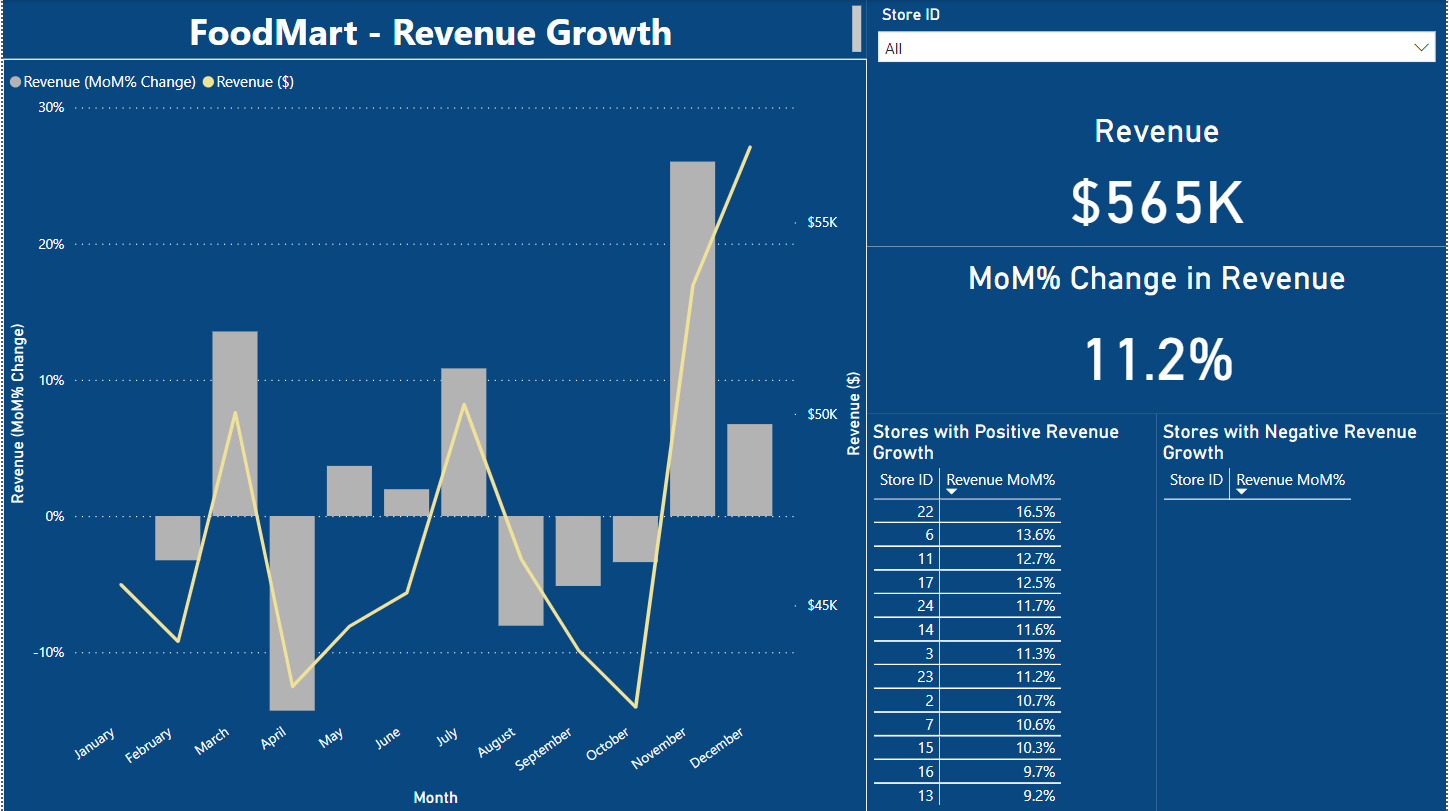

The page's visual inventory and layout, read from the dashboard file:
{"tool":"powerbi","page":{"name":"Revenue Summary","canvas":[1280,720],"ordinal":0},"visuals":[{"type":"slicer","fields":{"Values":["Transaction Data.store_id"]},"box":[766.1,0,514.3,91.3],"z":0},{"type":"card","title":"Revenue","fields":{"Values":["Sum(Transaction Data.Revenue)"]},"box":[766.1,88.7,514.3,130.3],"z":1000},{"type":"lineStackedColumnComboChart","fields":{"Category":["Calendar.Date.Variation.Date Hierarchy.Year","Calendar.Date.Variation.Date Hierarchy.Quarter","Calendar.Date.Variation.Date Hierarchy.Month","Calendar.Date.Variation.Date Hierarchy.Day"],"Y2":["Sum(Transaction Data.Revenue)"],"Y":["Transaction Data.Revenue MoM%"]},"box":[0,52.3,766.1,667.7],"z":2000},{"type":"textbox","box":[0,0,766.1,52.3],"z":3000},{"type":"tableEx","title":"Stores with Positive Revenue Growth","fields":{"Values":["Transaction Data.store_id","Transaction Data.Revenue MoM%"]},"box":[766.1,367.1,257.1,352.9],"z":5000},{"type":"tableEx","title":"Stores with Negative Revenue Growth","fields":{"Values":["Transaction Data.store_id","Transaction Data.Revenue MoM%"]},"box":[1023.3,367.1,257.1,352.9],"z":6000},{"type":"card","title":"MoM% Change in Revenue ","fields":{"Values":["Transaction Data.Revenue MoM%"]},"box":[766.1,219,514.3,148.1],"z":7000}]}

Visuals, with their boxes in screenshot pixels (x1, y1, x2, y2), scaled from the page's 1280x720 canvas onto the 1449x811 screenshot:
slicer - Transaction Data.store_id: 867:0:1448:103
"Revenue" card: 867:100:1448:247
lineStackedColumnComboChart - Calendar.Date.Variation.Date Hierarchy.Year x Calendar.Date.Variation.Date Hierarchy.Quarter: 0:59:867:810
textbox: 0:0:867:59
"Stores with Positive Revenue Growth" tableEx: 867:413:1158:810
"Stores with Negative Revenue Growth" tableEx: 1158:413:1448:810
"MoM% Change in Revenue " card: 867:247:1448:413
